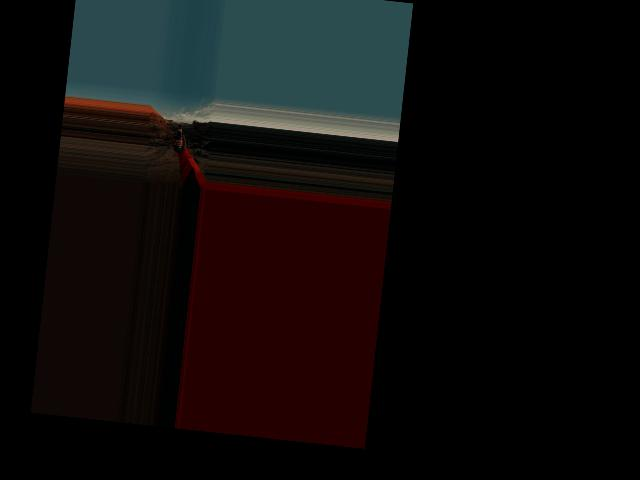beer: (172, 124, 185, 151)
